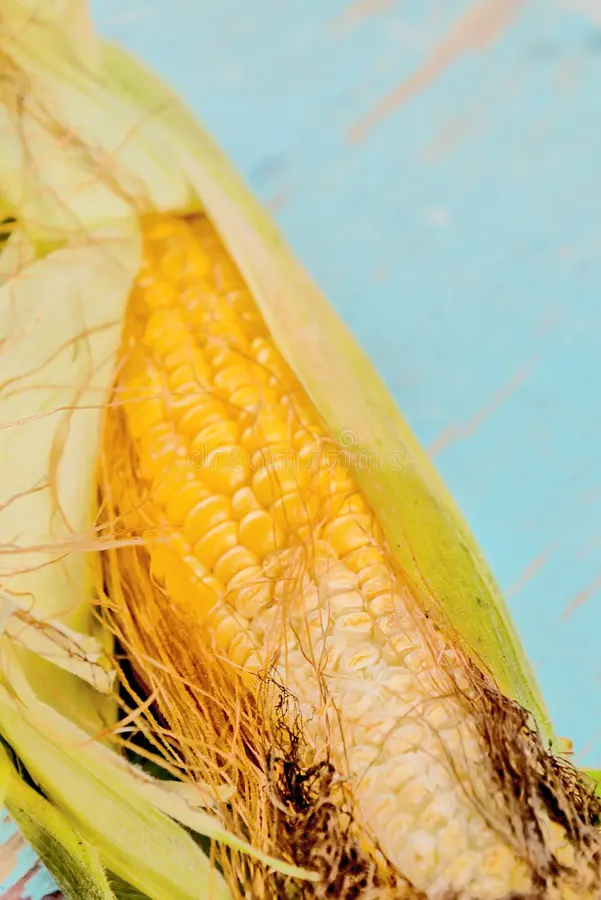rotten corn: (90, 201, 591, 900)
